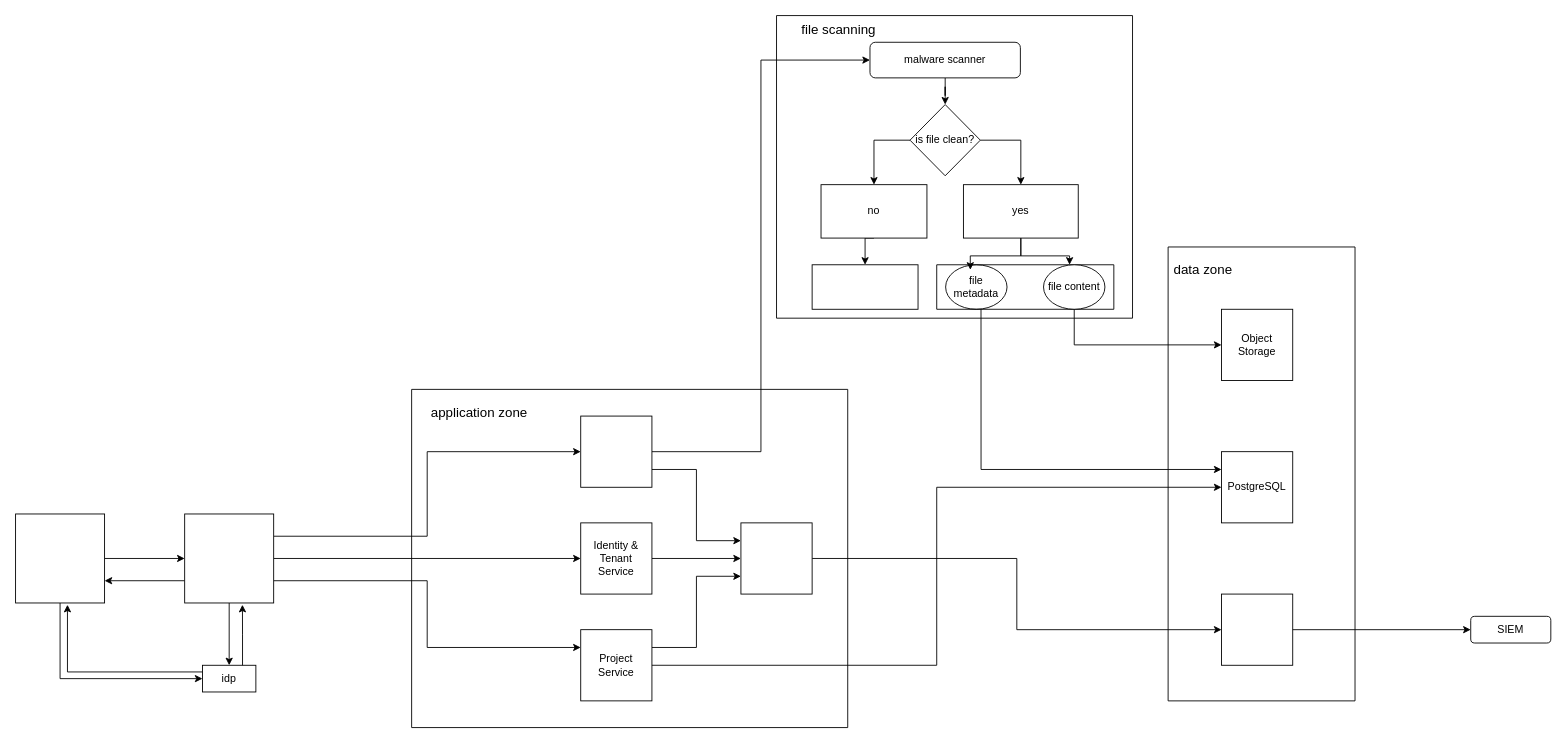
This 1566x750 diagram has some shape labels left out. The shapes that lost their labels are listed below. From the top down, each one's centre as x and y in pixels, then its label:
At [864,286]: "quarentine".
At [616,451]: "File Service".
At [60,558]: "users/ org members".
At [229,558]: "api entry point".
At [776,558]: "Audit Service".
At [1257,629]: "Audit Store".
